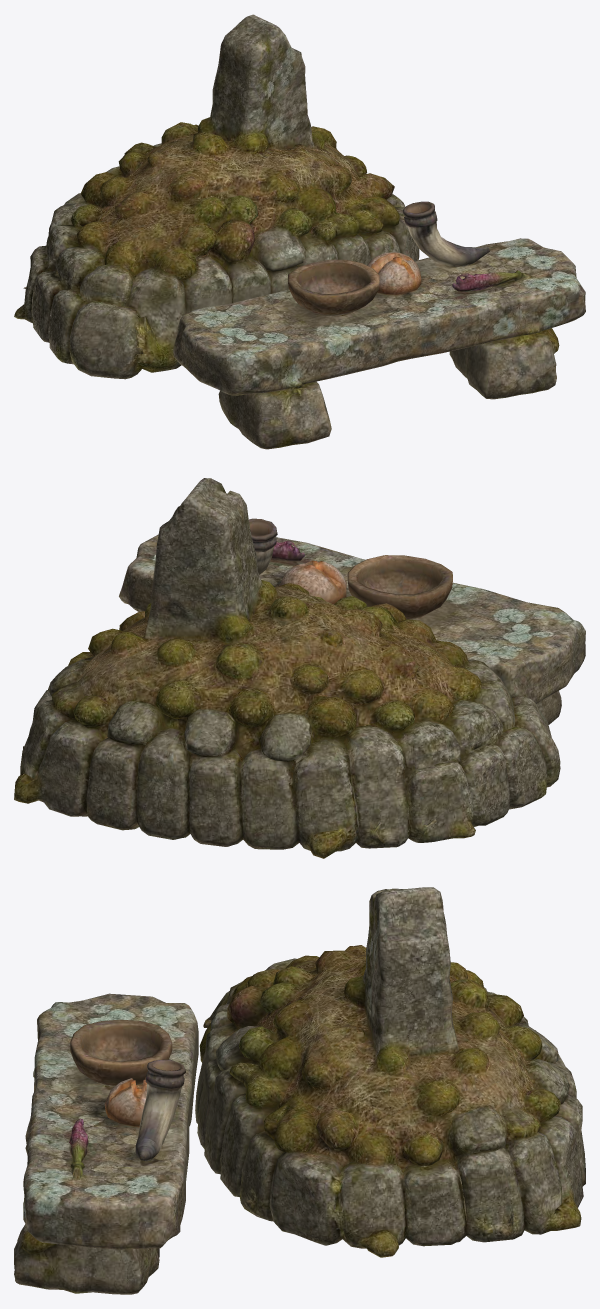
Rendered from kit_lw_offering_slab.glb.
3 views of the same model, one above another, from view 1: azimuth 30°, elevation 25°; view 2: azimuth 150°, elevation 25°; view 3: azimuth 270°, elevation 25° (orthographic). The views are drawn at different scales.
Parts seen in each view (by area): view 1: kit_lw_offering_slab; view 2: kit_lw_offering_slab; view 3: kit_lw_offering_slab.
Part boxes in pixels (<box>): kit_lw_offering_slab: <box>14,14,585,449</box>; kit_lw_offering_slab: <box>14,478,585,858</box>; kit_lw_offering_slab: <box>14,887,585,1294</box>.
Size of the model in its own units: 1.7 by 1.05 by 1.66.
1 material, 1 textured.
